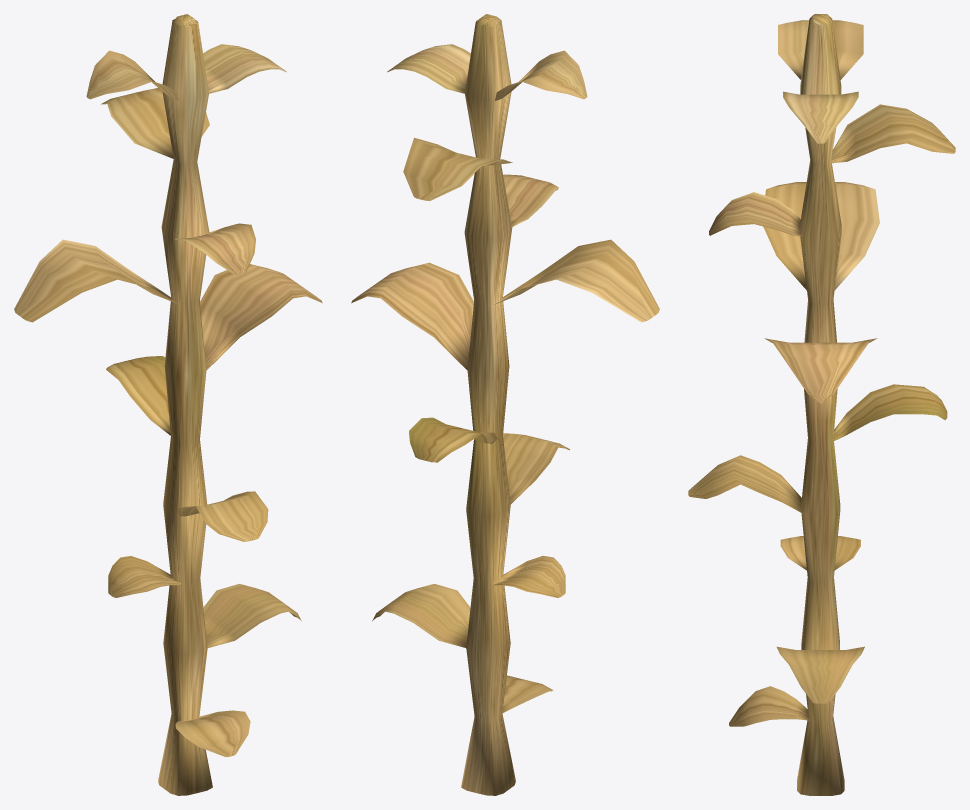
File: Maizal.fbx
3 views of the same model, side by side, from view 1: azimuth 30°, elevation 25°; view 2: azimuth 150°, elevation 25°; view 3: azimuth 270°, elevation 25° (orthographic).
Visible parts, largest first — view 1: Maizal; view 2: Maizal; view 3: Maizal.
Boxes of the visible parts, box(x1,y1,x2,y2) form: Maizal: box(14, 14, 322, 795); Maizal: box(351, 14, 659, 795); Maizal: box(688, 14, 955, 795).
Bounding box in the file's own units: 104 × 251 × 79.21.
Materials: 1 (1 with a texture image).
